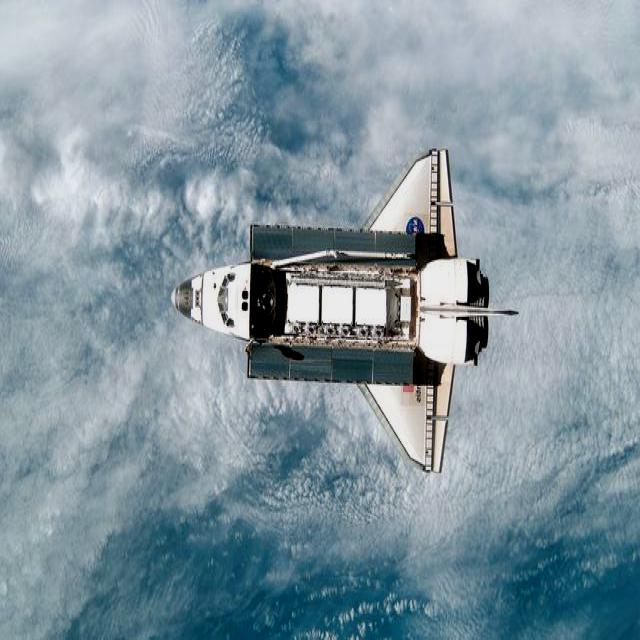medium_debris: (171, 149, 516, 472)
